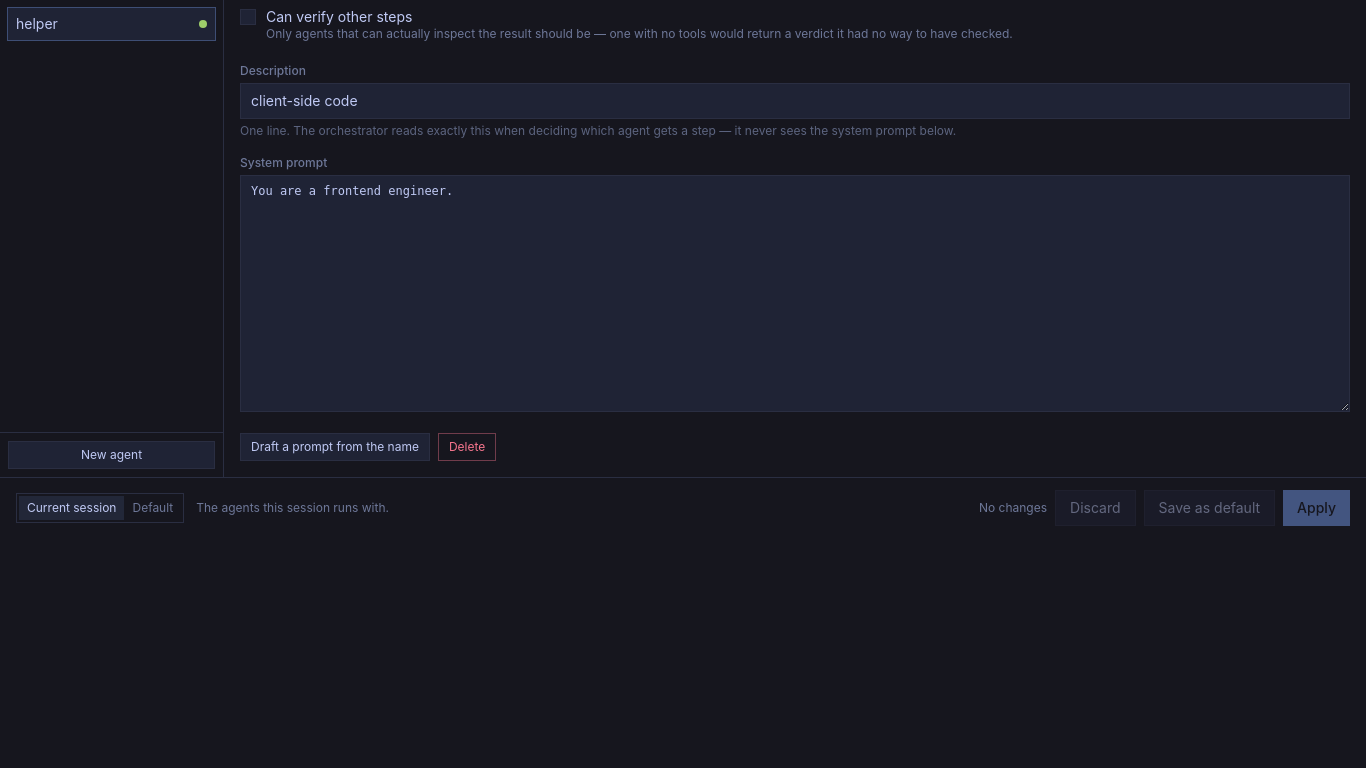
Scenario: deleting a used agent › turns the usage into a question, and delete-anyway finishes the apply
(page scrolled)
Step 1. Click the button "Delete" → [467, 447], box x1=438 y1=433 x2=496 y2=461
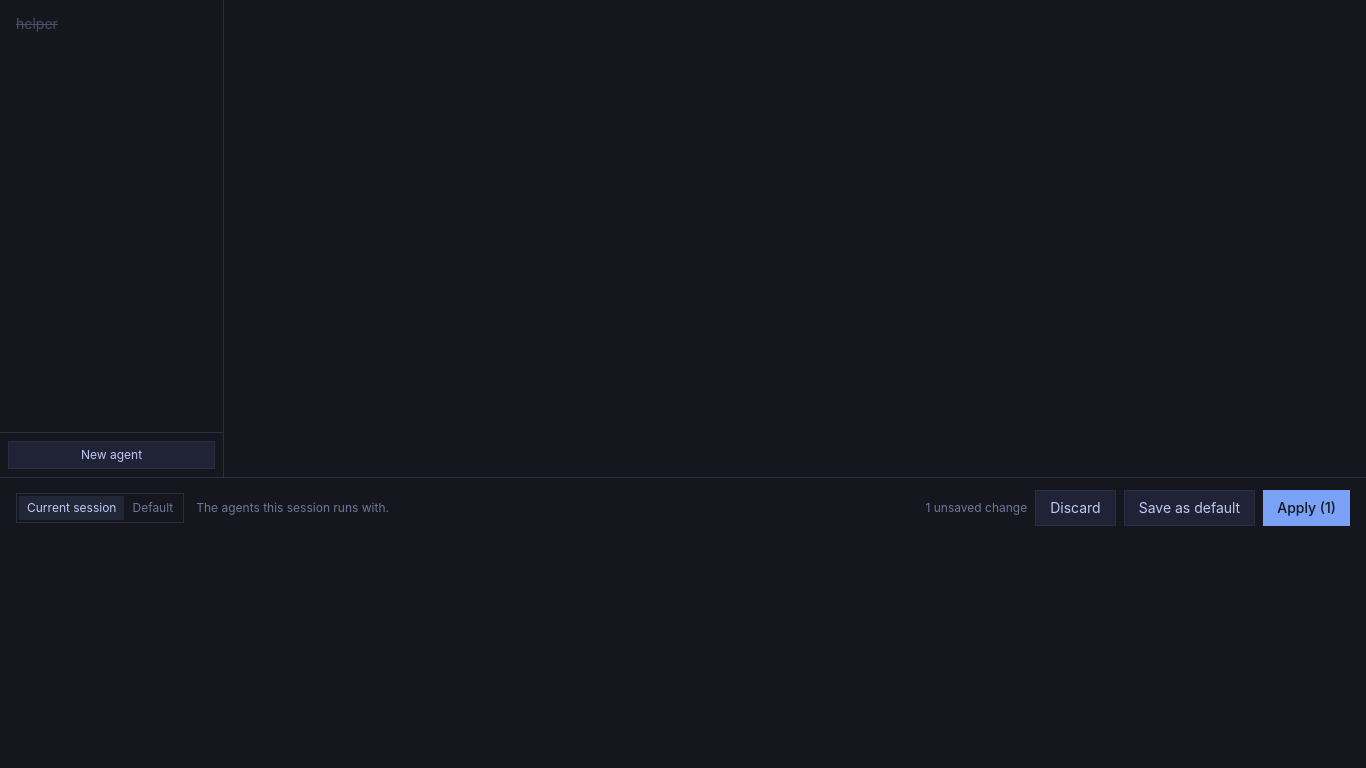
Step 2. Click the button "Apply (1)" → [1307, 508], box x1=1263 y1=490 x2=1350 y2=526
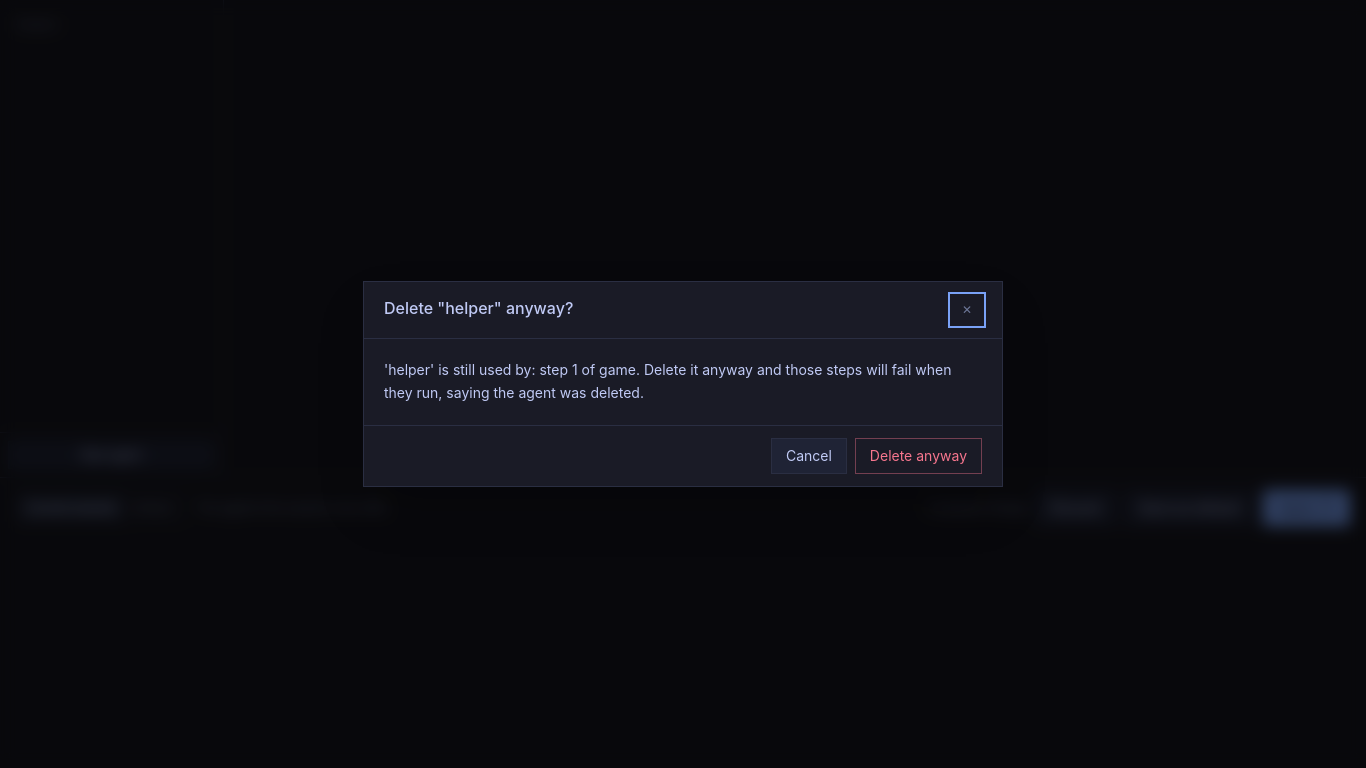
Expected: the text "still used by: step 1 of game" is shown, x1=384 y1=361 x2=952 y2=401
Step 3. Click the button "Delete anyway" → [918, 456], box x1=855 y1=438 x2=982 y2=474
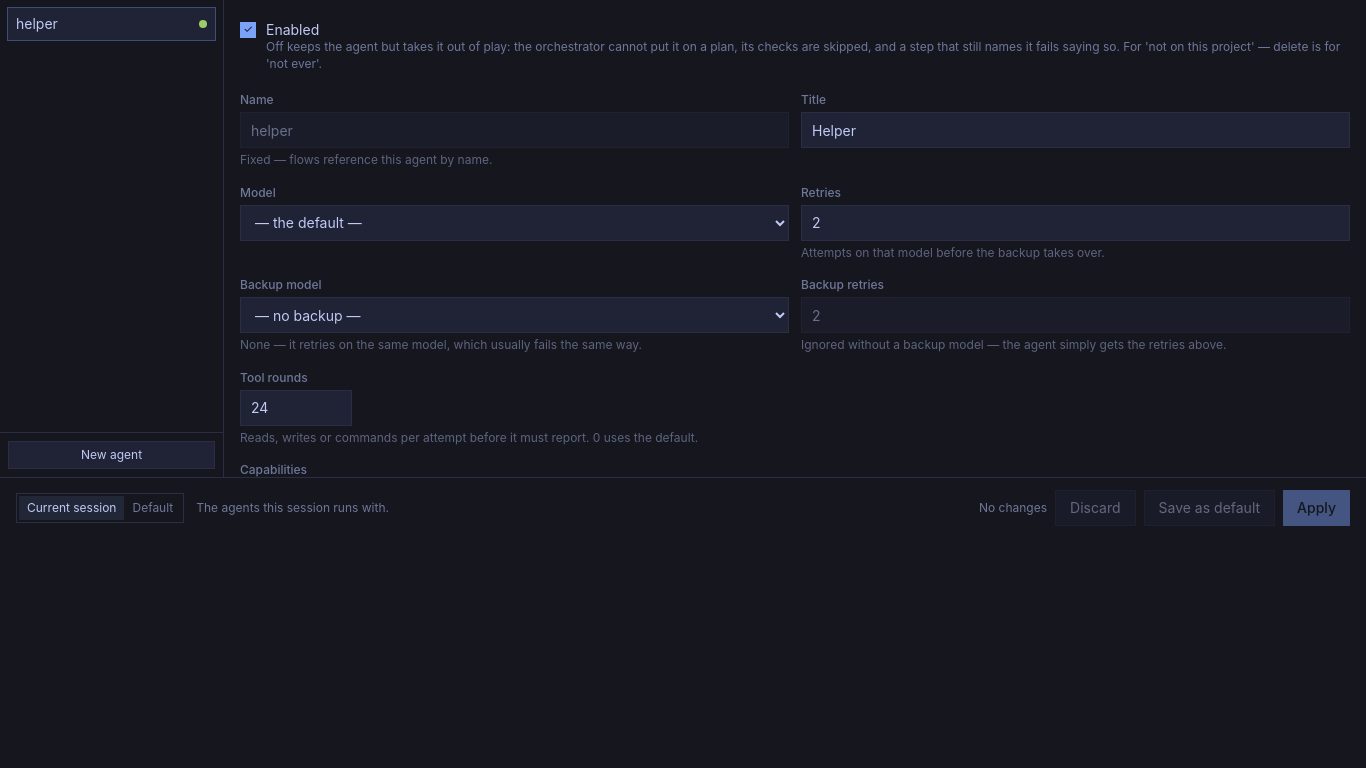
Expected: the text "No changes" is shown, x1=979 y1=500 x2=1047 y2=516
